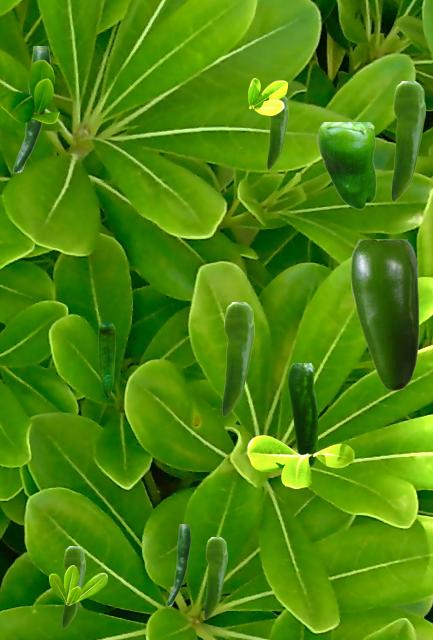green_chili: (351, 239, 418, 390), (317, 122, 375, 208), (12, 46, 49, 172), (391, 81, 424, 200), (222, 302, 253, 415), (288, 363, 316, 467), (166, 524, 189, 605), (62, 546, 84, 627), (204, 537, 226, 618), (267, 96, 287, 168), (98, 323, 114, 397)
